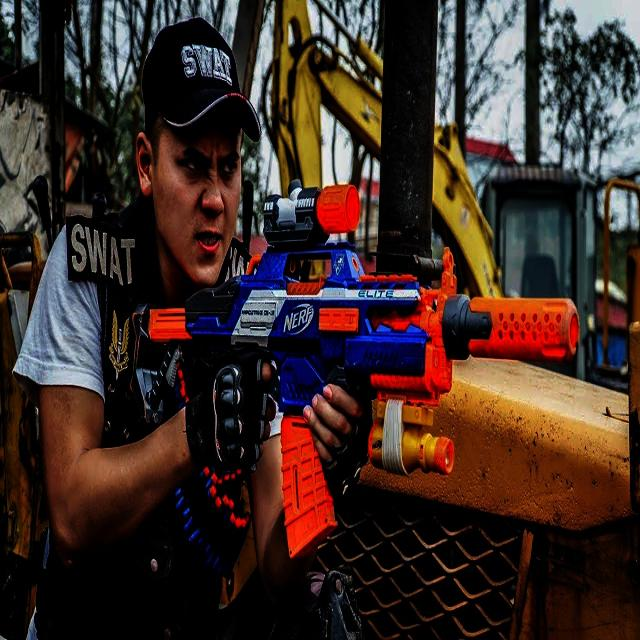Nerf gun: (118, 176, 583, 569)
